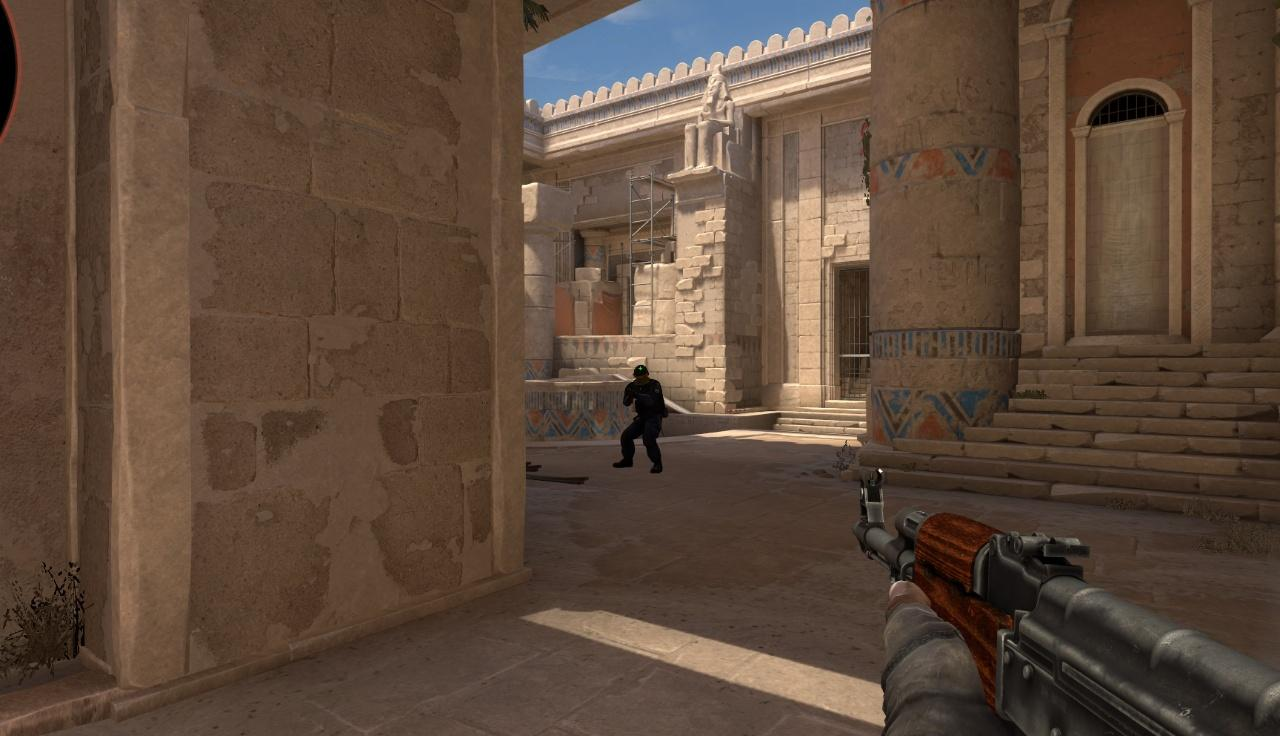ct: (624, 365, 663, 470)
cthead: (633, 365, 649, 386)
rifle: (851, 467, 1280, 736)
